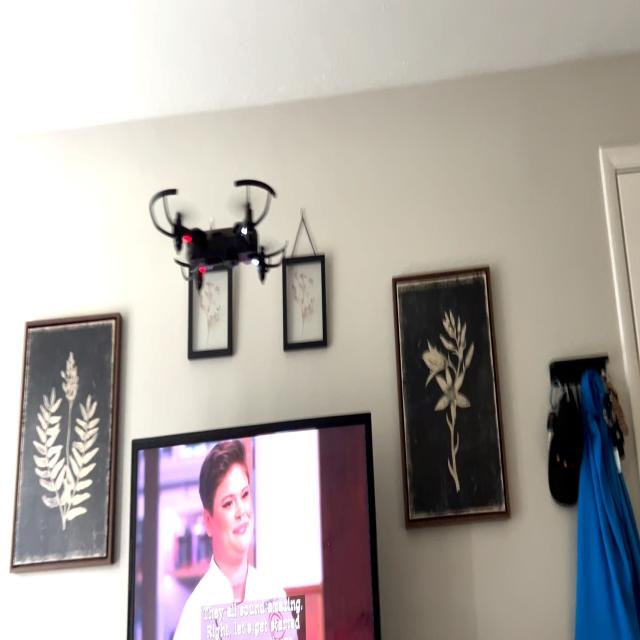drone: (140, 166, 299, 299)
